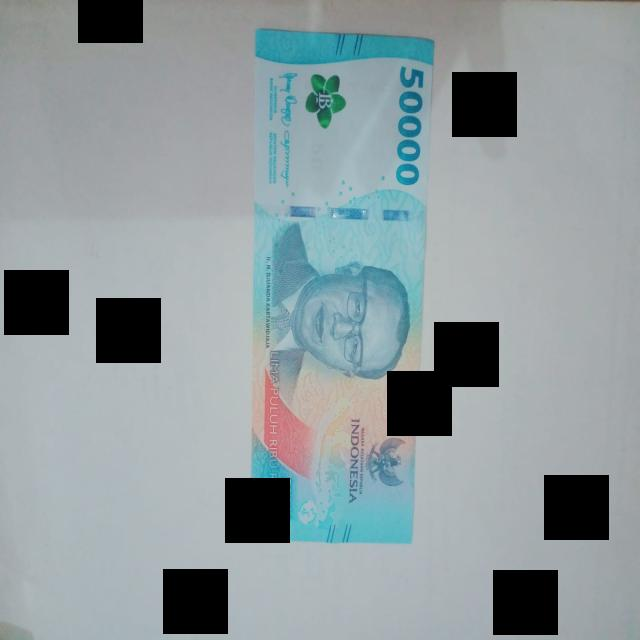lima puluh ribu rupiah: (251, 30, 434, 543)
